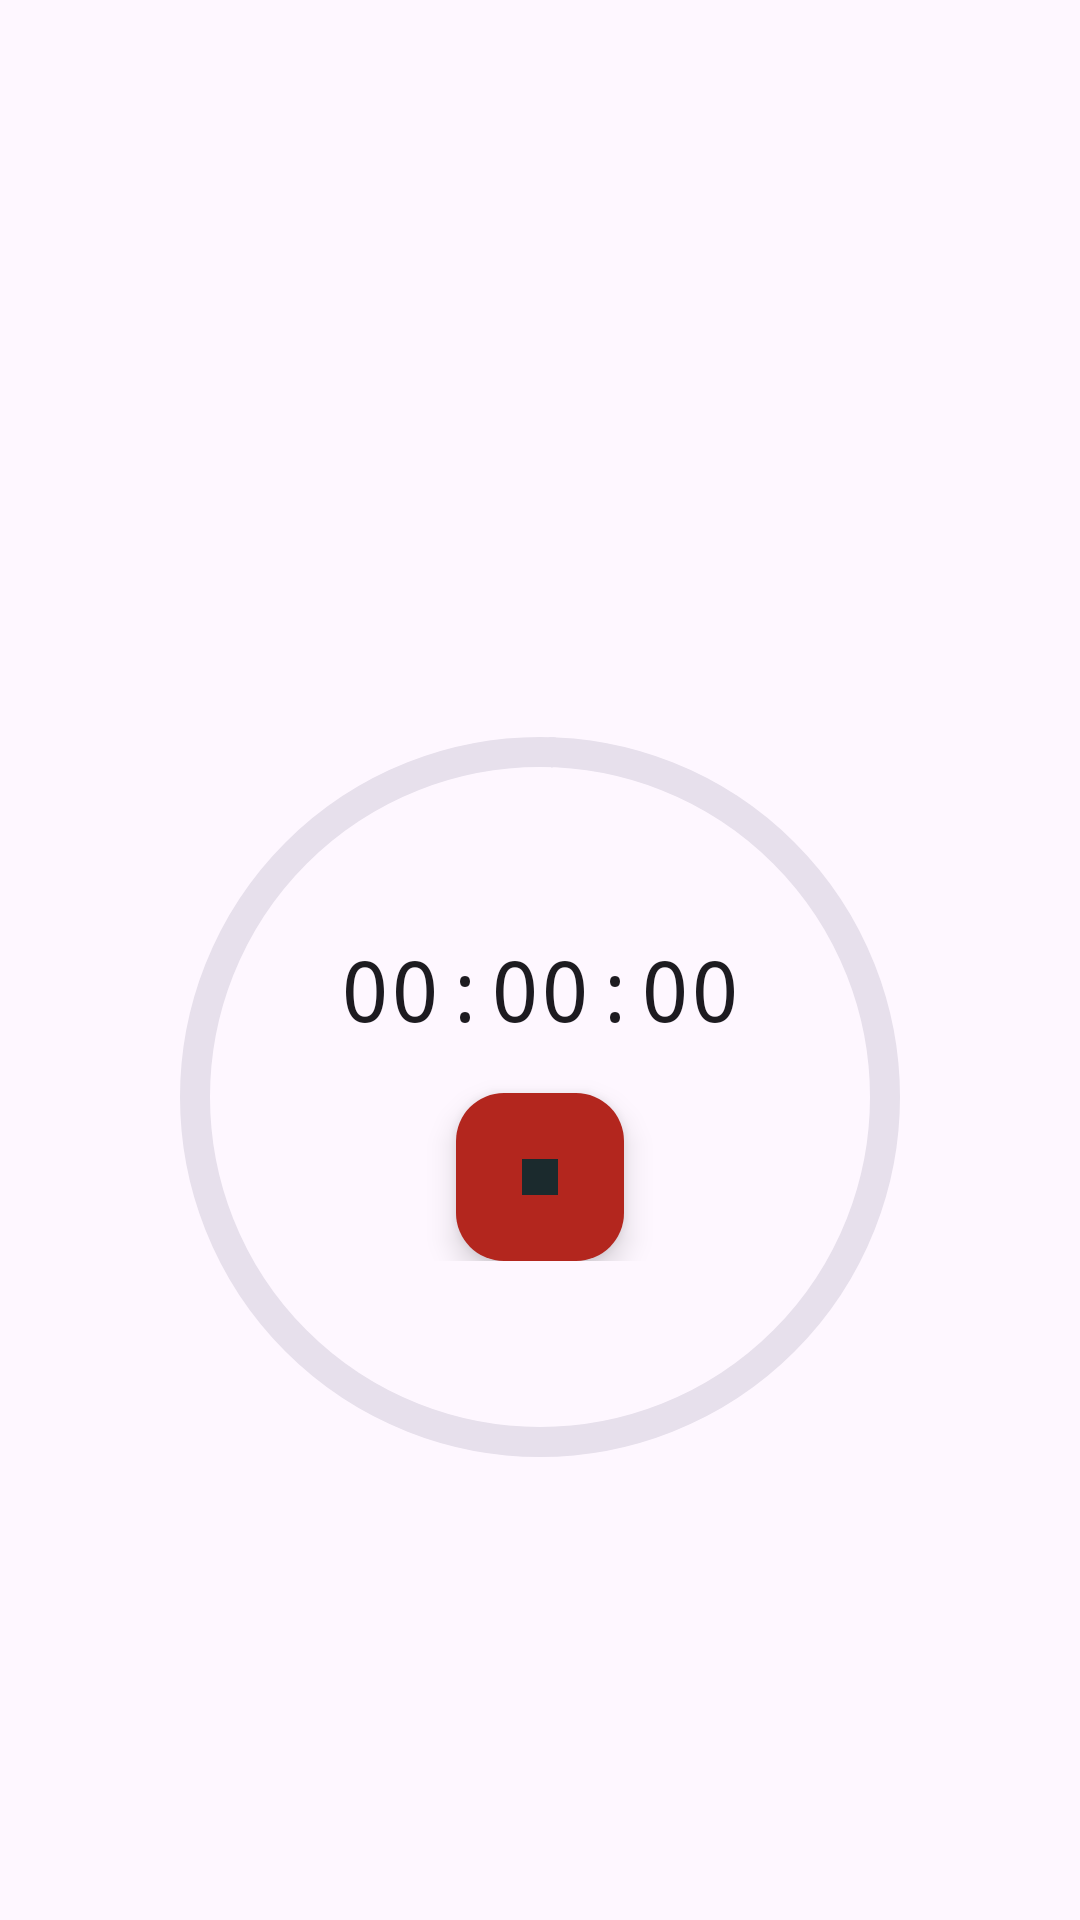

Icon click points for this 1080×1920 phone screenshot, format (x,y):
Stop tracking: (540,1177)
